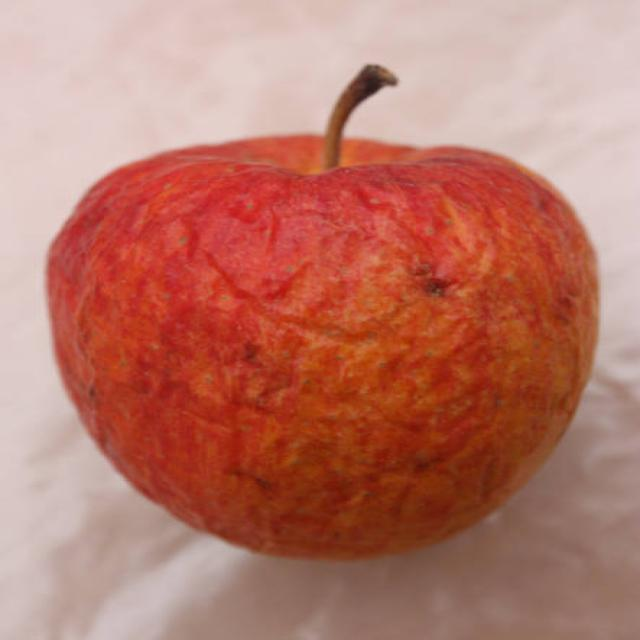overripe: (41, 124, 607, 561)
